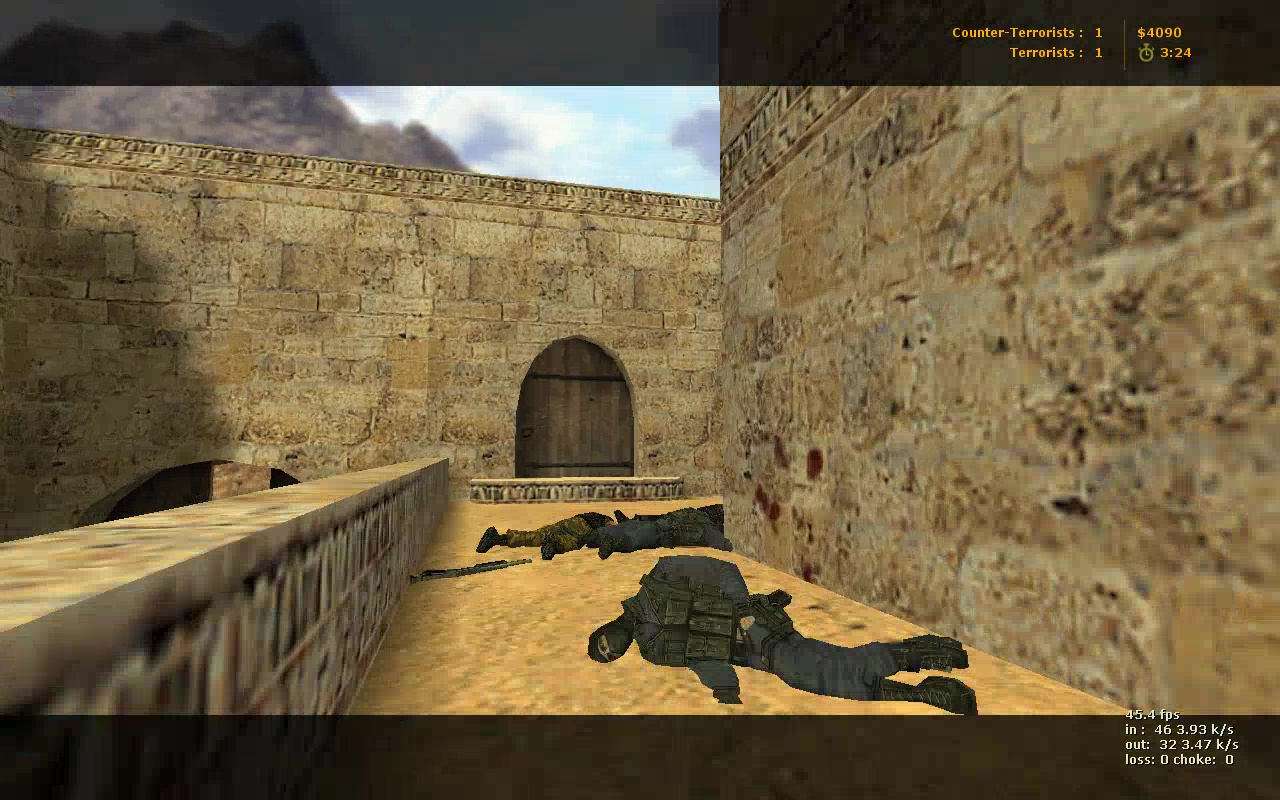dead: (587, 554, 981, 718), (576, 504, 743, 555), (477, 511, 620, 560)
